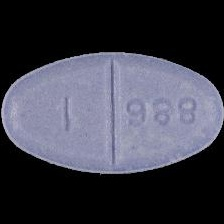63187-741: (0, 0, 224, 224)
